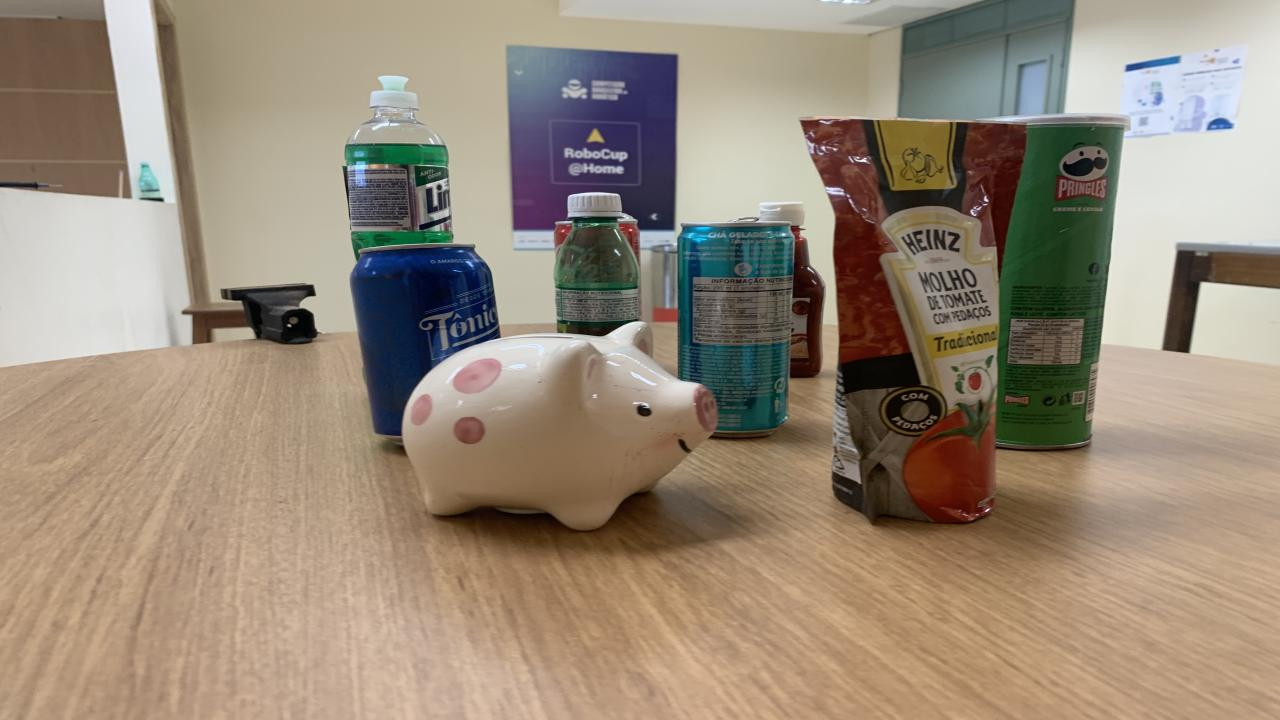Coke-Drinks: (618, 216, 640, 262), (552, 219, 572, 253)
Detergent-Cleanup_Items: (345, 75, 452, 257)
Guarana-Drinks: (555, 191, 640, 336)
Ketchup-Pantry_Items: (758, 202, 825, 377)
Pig_Safe-Miscellaneous: (402, 322, 718, 531)
Pringles-Snacks: (998, 114, 1130, 450)
Tea-Drinks: (678, 221, 795, 437)
Tomato_Sauce-Pantry_Items: (802, 118, 1025, 523)
Tonic-Drinks: (350, 244, 500, 442)
